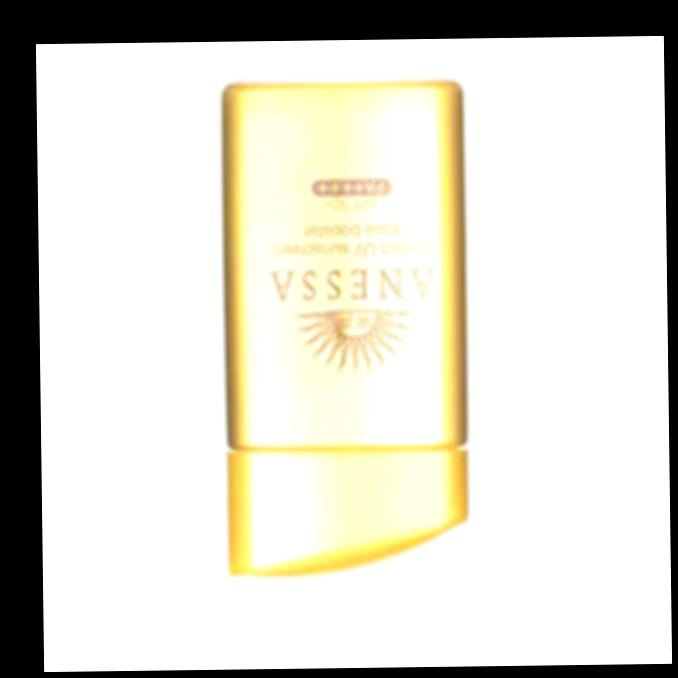cosmetic: (219, 83, 474, 578)
